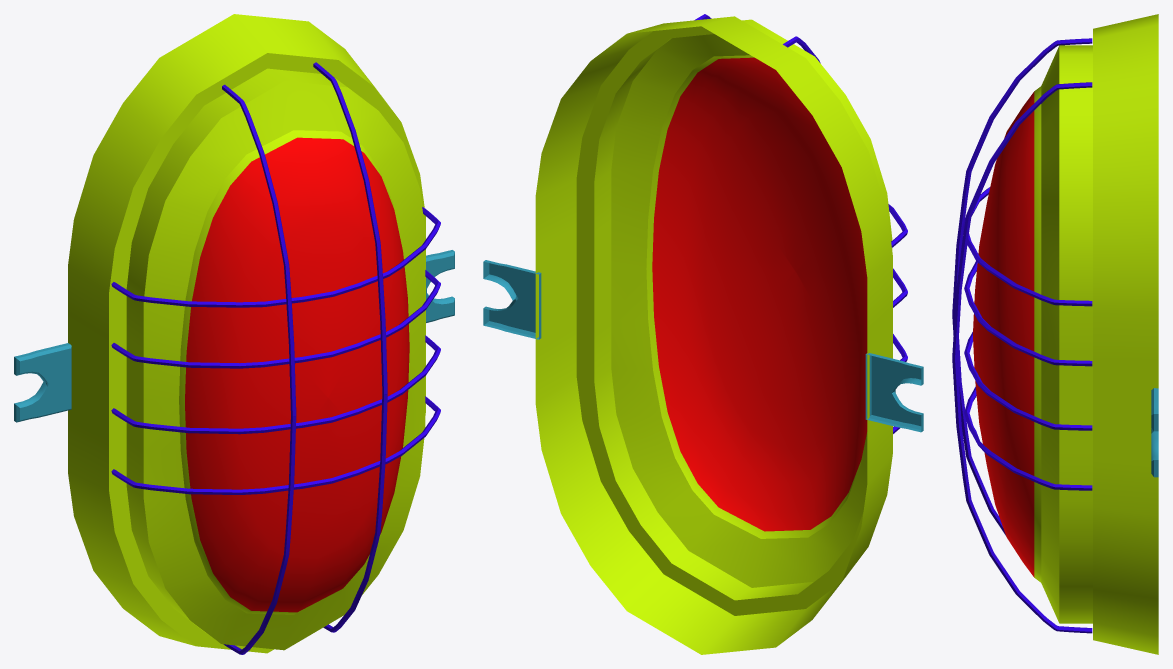
Rendered from RedLight.FBX.
3 renders of one model, left to right at view 1: azimuth 30°, elevation 25°; view 2: azimuth 150°, elevation 25°; view 3: azimuth 270°, elevation 25°, orthographic.
Visible parts, largest first — view 1: Plane002; view 2: Plane002; view 3: Plane002.
Part boxes in pixels (x1,y1,x2,y2): Plane002: (14,14,454,654); Plane002: (483,14,923,654); Plane002: (952,14,1158,654).
Bounding box in the file's own units: 9.12 × 12.51 × 3.78.
